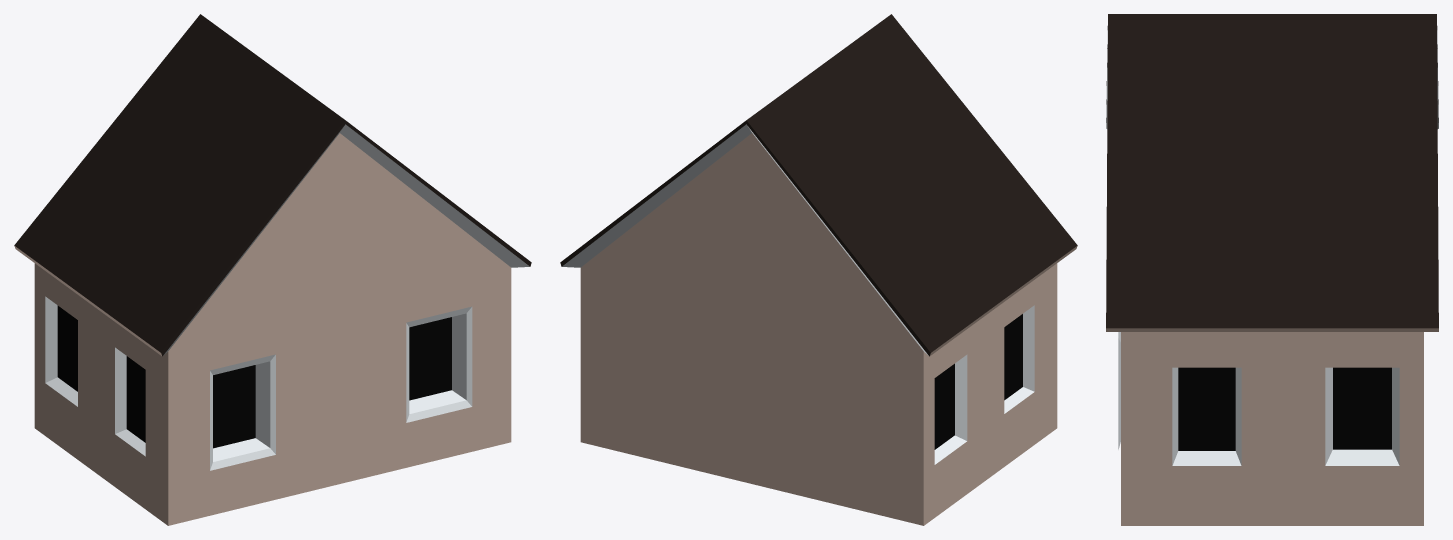
Rendered from house2.fbx.
The picture shows the model from 3 angles, left to right: view 1: azimuth 30°, elevation 25°; view 2: azimuth 150°, elevation 25°; view 3: azimuth 270°, elevation 25°; orthographic projection. The views are drawn at different scales.
Parts seen in each view (by area): view 1: house2; view 2: house2; view 3: house2.
Part boxes in pixels (bbox=[...]): house2: bbox=[14, 14, 531, 525]; house2: bbox=[560, 14, 1077, 525]; house2: bbox=[1106, 14, 1438, 525].
Bounding box in the file's own units: 4749 × 4506 × 3259.
